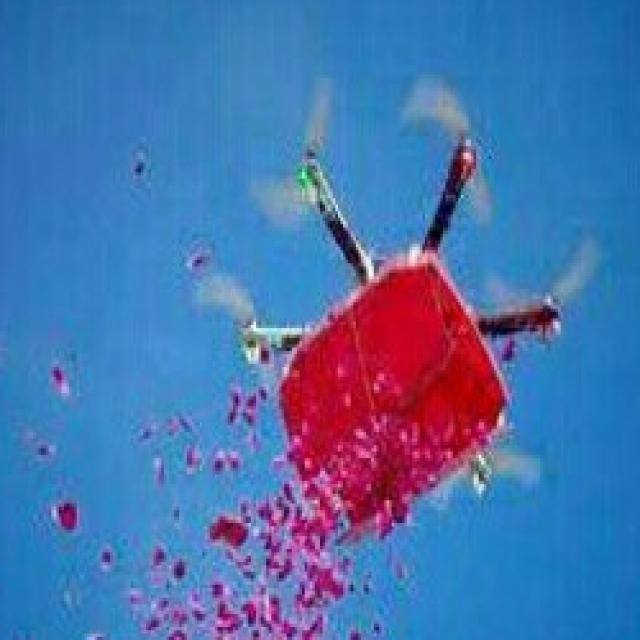drone: (210, 140, 609, 532)
